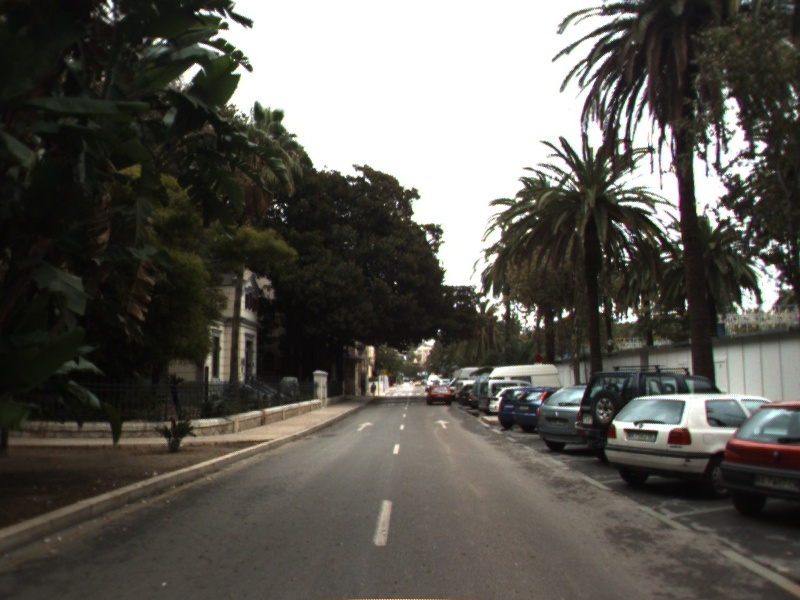STRAIGHT: (354, 420, 377, 433), (432, 417, 453, 431)
